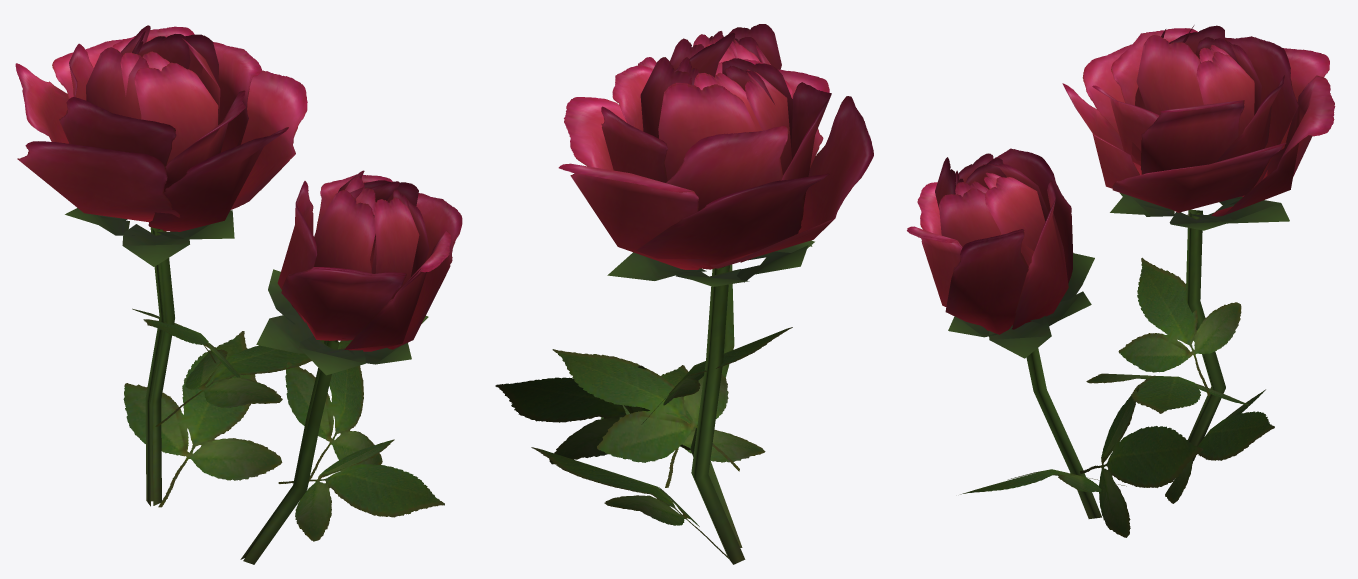
File: xuemudan01_56_00_8629out.fbx
3 views of the same model, side by side, from view 1: azimuth 30°, elevation 25°; view 2: azimuth 150°, elevation 25°; view 3: azimuth 270°, elevation 25° (orthographic). The views are drawn at different scales.
Visible parts, largest first — view 1: xuemudan01; view 2: xuemudan01; view 3: xuemudan01.
Boxes of the visible parts, left/top/right/bottom form: xuemudan01: left=15, top=25, right=462, bottom=564; xuemudan01: left=495, top=24, right=873, bottom=564; xuemudan01: left=907, top=25, right=1335, bottom=537.
Size of the model in its own units: 0.6692 by 0.9307 by 0.7731.
